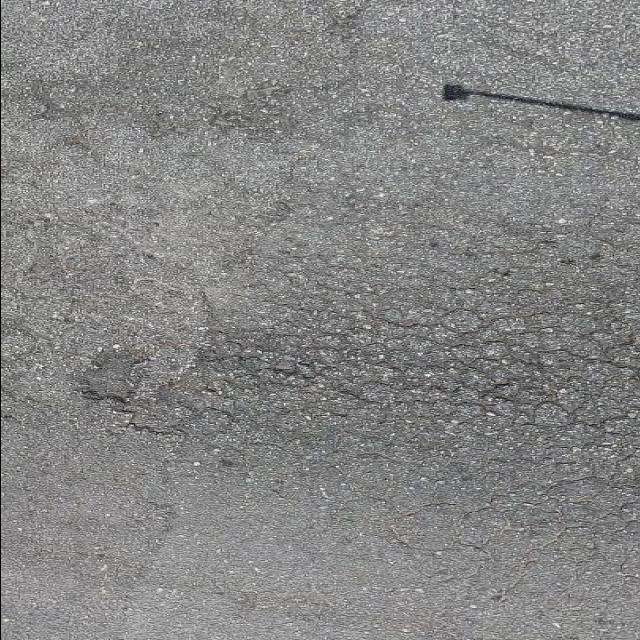cracks: (0, 254, 640, 542)
